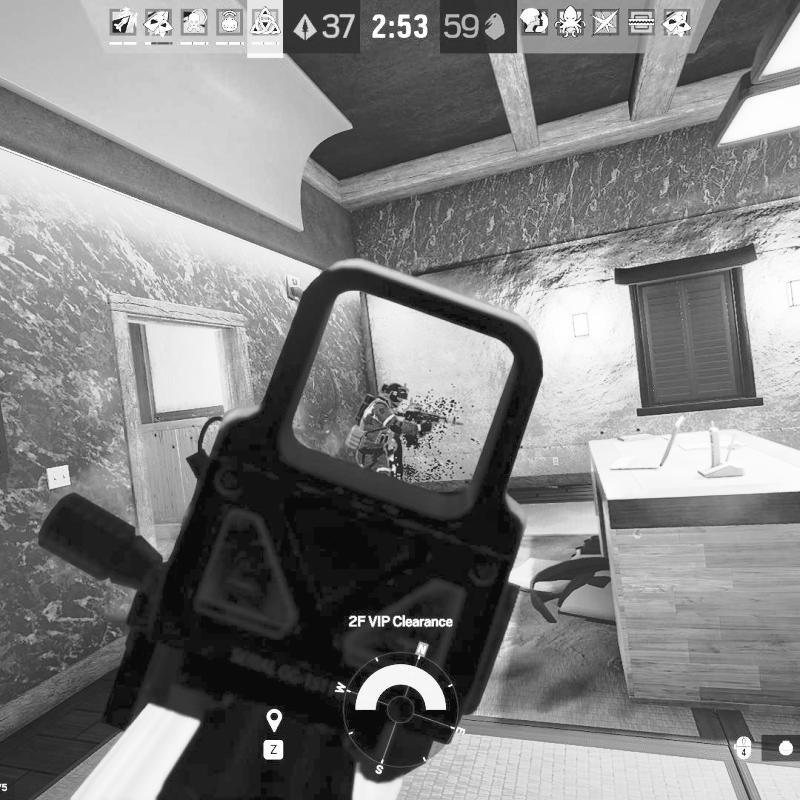Character: (344, 380, 462, 481)
Head: (383, 382, 408, 407)
